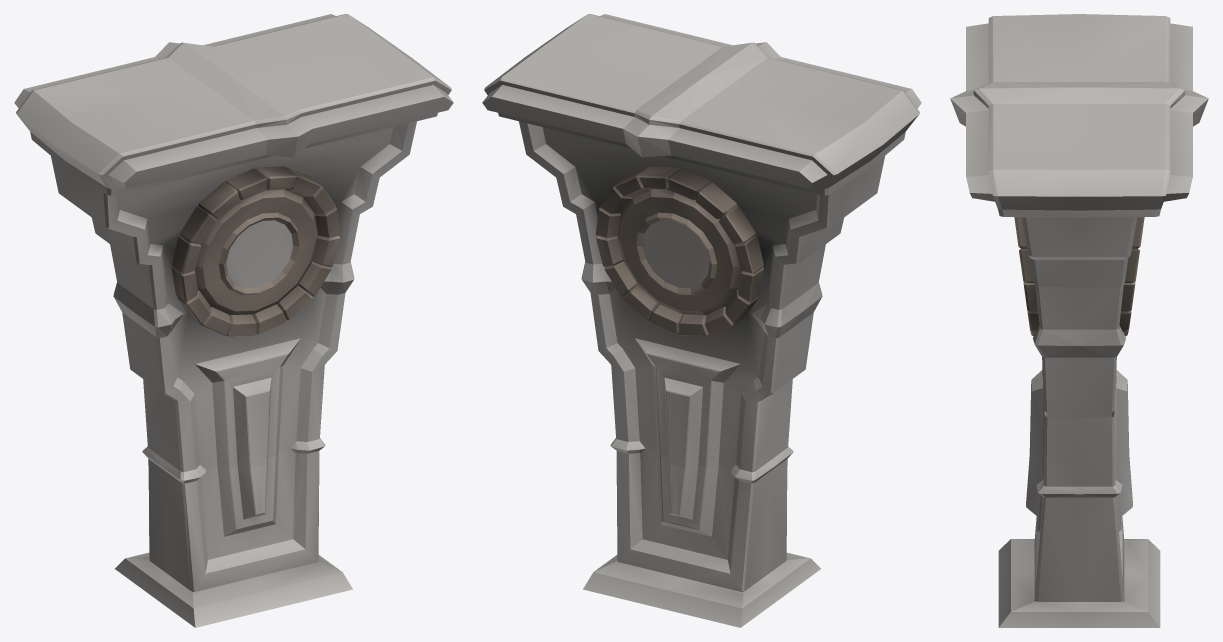
File: obj_milestone_C.FBX
The picture shows the model from 3 angles, left to right: view 1: azimuth 30°, elevation 25°; view 2: azimuth 150°, elevation 25°; view 3: azimuth 270°, elevation 25°; orthographic projection.
Parts seen in each view (by area): view 1: obj_milestone_C; view 2: obj_milestone_C; view 3: obj_milestone_C.
Part boxes in pixels (left/top/right/bottom): obj_milestone_C: left=14, top=14, right=453, bottom=627; obj_milestone_C: left=482, top=14, right=921, bottom=627; obj_milestone_C: left=950, top=14, right=1208, bottom=627.
Size of the model in its own units: 2.2 by 2.94 by 1.38.
